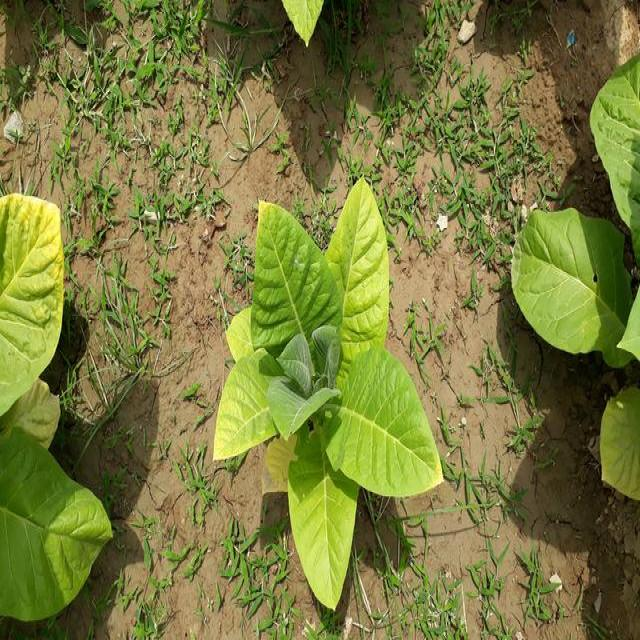crop: (211, 175, 448, 617), (508, 59, 640, 511), (0, 187, 110, 628)
